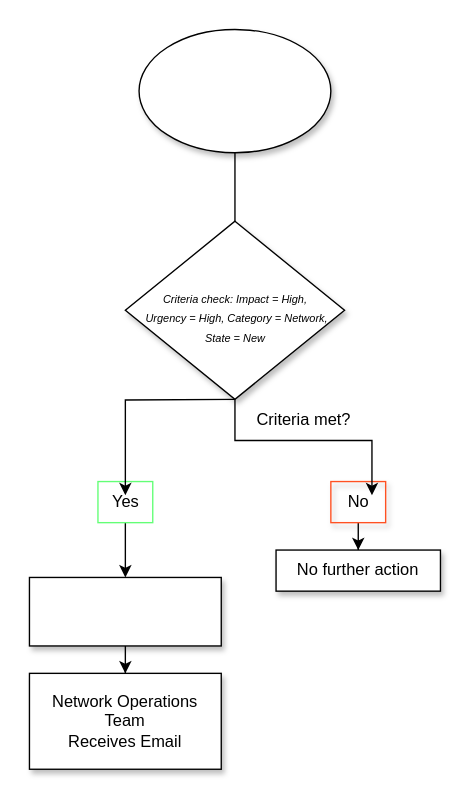
Image size: 473x803. Some labels were removed from this diagram. The centre of each missing label's shape, as x and y in pixels:
"Incident Created" belongs at [235,92].
"P1 Network Incident Assigned to Network Operations" belongs at [126,613].
